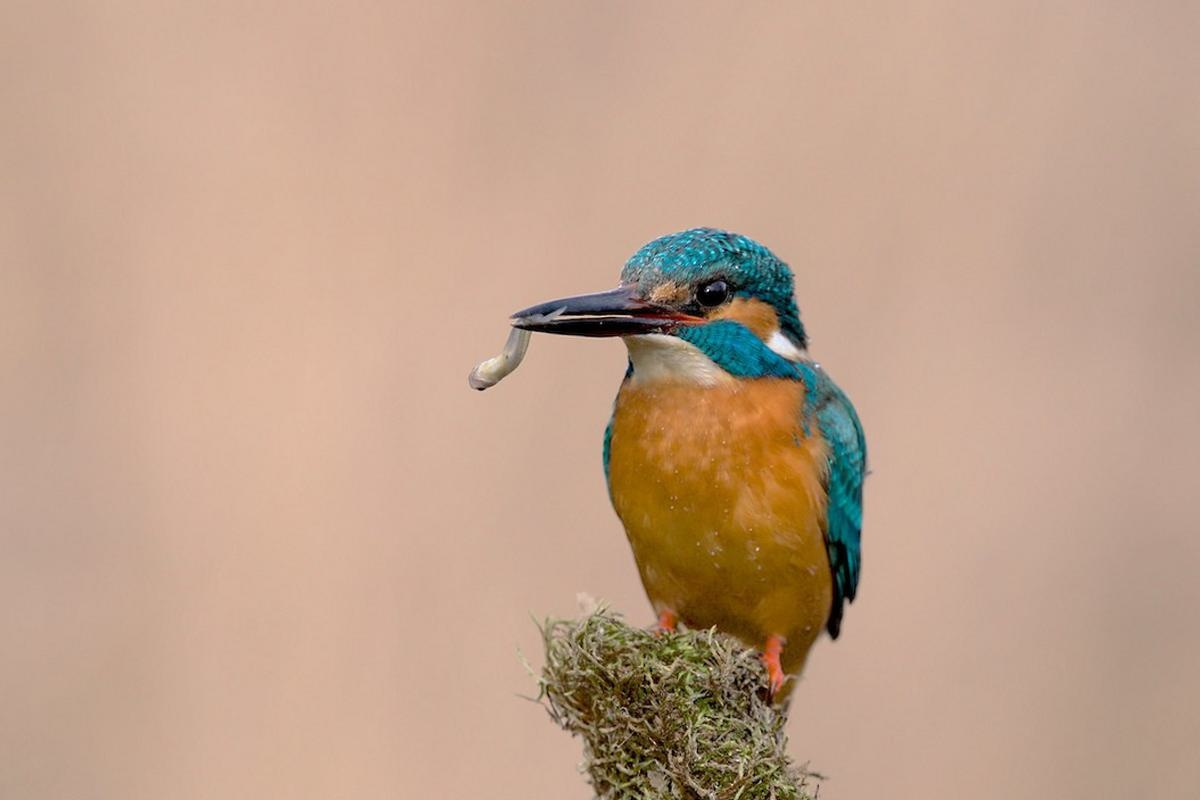kingfisher: (476, 216, 871, 704)
